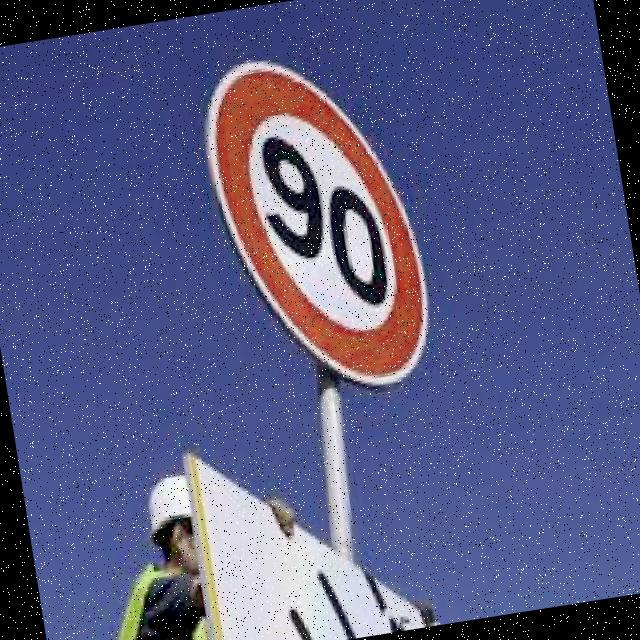Ograniczenie predkosci do 90: (201, 38, 441, 410)
